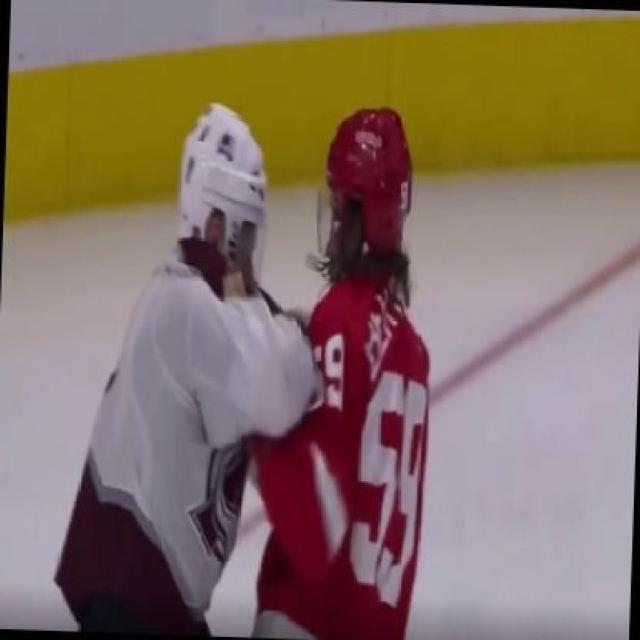fight: (52, 101, 438, 640)
